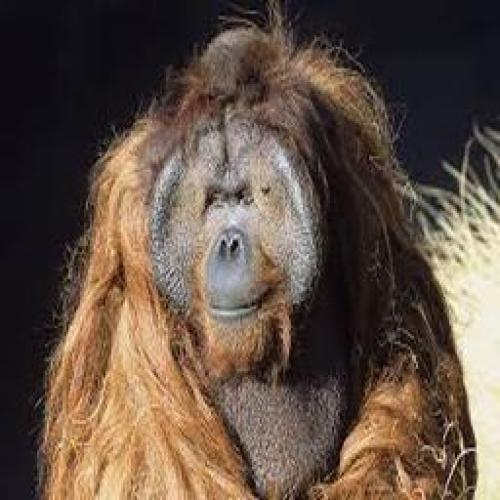orangutan-endangered: (30, 29, 476, 495)
